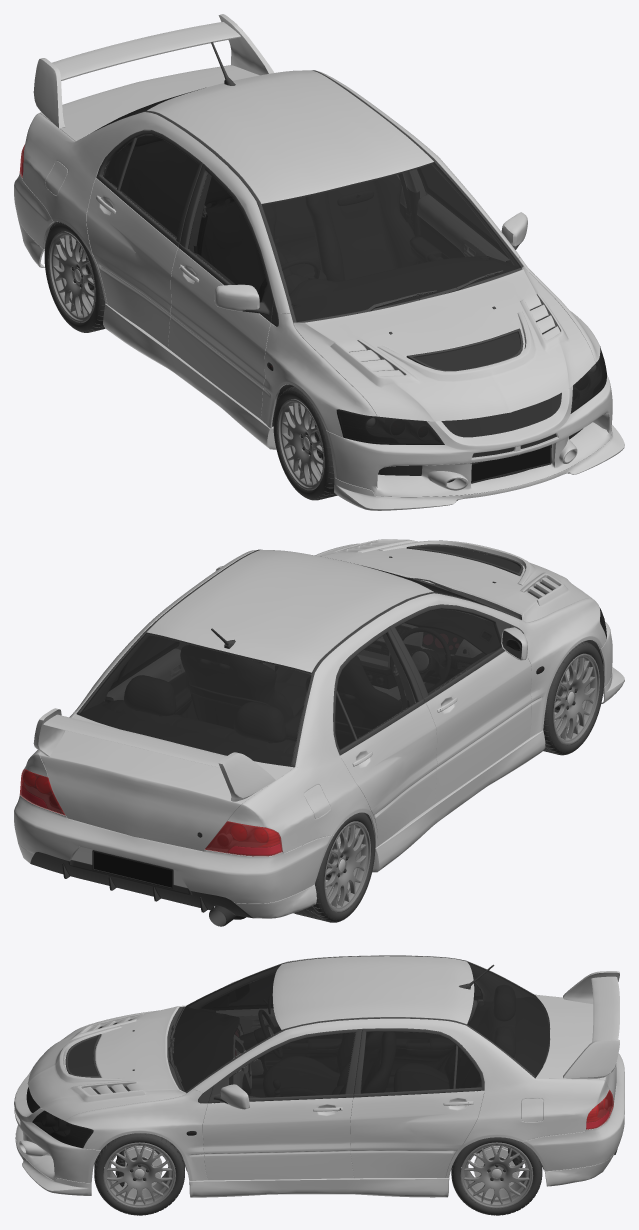
The model's file is mitsubishi-lancer-evo.glb.
3 views of the same model, one above another, from view 1: azimuth 30°, elevation 25°; view 2: azimuth 150°, elevation 25°; view 3: azimuth 270°, elevation 25° (orthographic). The views are drawn at different scales.
Parts seen in each view (by area): view 1: car body, w2, w4; view 2: car body, w2, w4; view 3: car body, w1, w3.
Part boxes in pixels (<box>): car body: <box>14,14,624,510</box>; w2: <box>273,386,337,500</box>; w4: <box>44,222,105,332</box>; car body: <box>14,539,624,926</box>; w2: <box>543,641,604,755</box>; w4: <box>293,812,375,922</box>; car body: <box>14,955,624,1197</box>; w1: <box>94,1133,184,1215</box>; w3: <box>451,1137,542,1215</box>.
Bounding box in the file's own units: 4.72 × 3.71 × 10.28.
